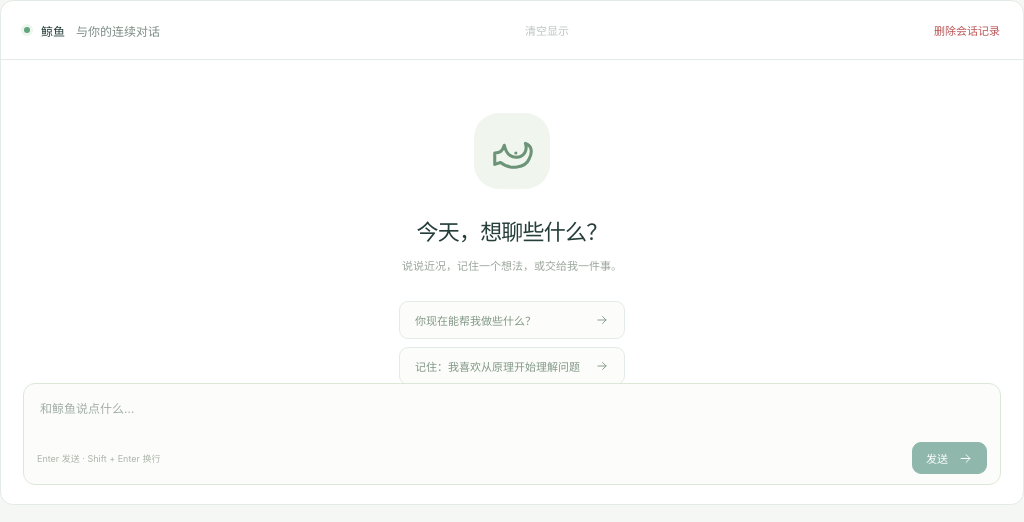
Test case: Chat 流式（issue #45） › 停止：中断后保留部分文本并标注「已停止（部分内容）」
The image size is (1024, 522).
Type "讲个故事" into the text box named "消息内容" at {"x": 512, "y": 414}, box x1=32 y1=389 x2=992 y2=439
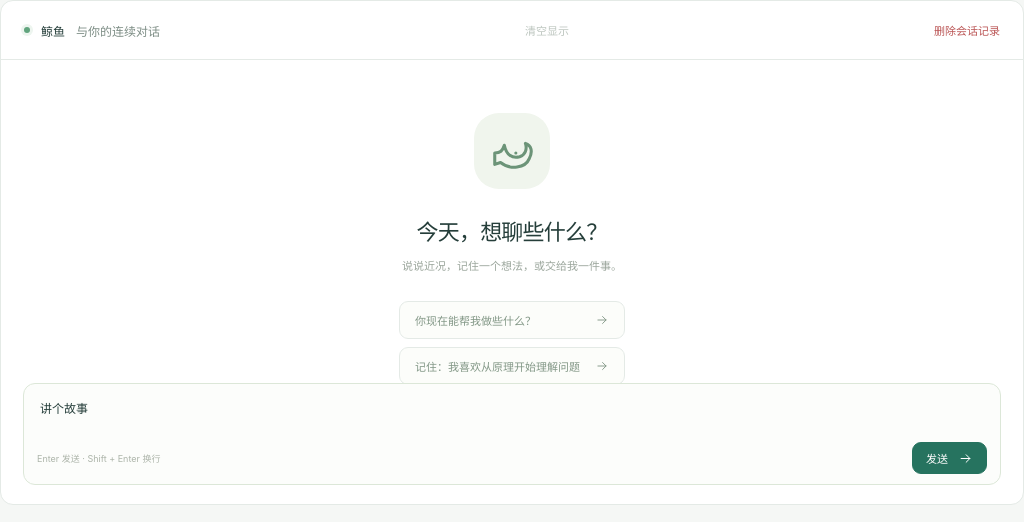
Click the button "发送" at {"x": 950, "y": 458}, box x1=912 y1=442 x2=987 y2=474
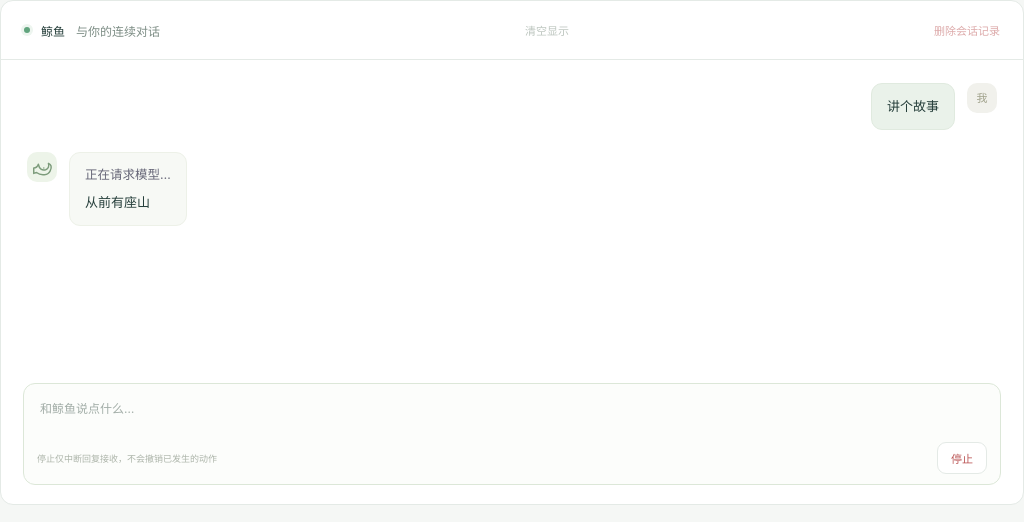
Expected: the text "正在请求模型… 从前有座山" is shown, x1=69 y1=152 x2=187 y2=226
Click the button "停止" at {"x": 962, "y": 458}, box x1=937 y1=442 x2=987 y2=474
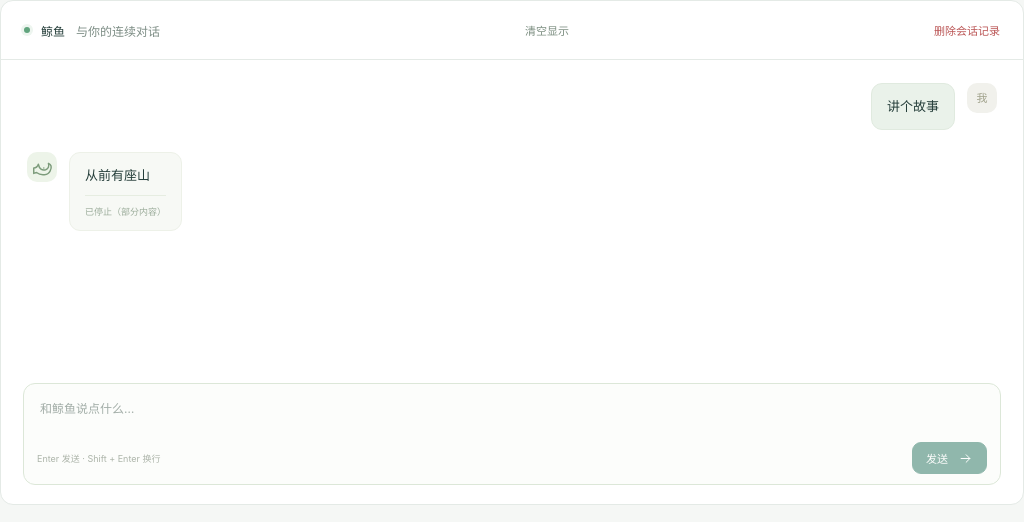
Expected: the text "从前有座山 已停止（部分内容）" is shown, x1=69 y1=152 x2=182 y2=232
Expected: the text "已停止（部分内容）" is shown, x1=85 y1=195 x2=166 y2=220
